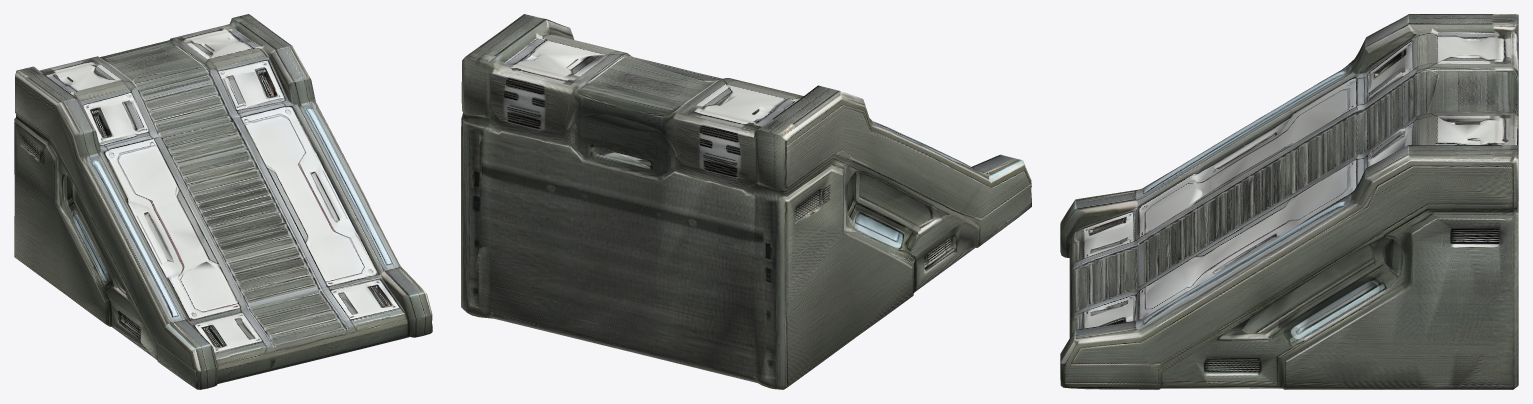
Rendered from ramp.glb.
3 renders of one model, left to right at view 1: azimuth 30°, elevation 25°; view 2: azimuth 150°, elevation 25°; view 3: azimuth 270°, elevation 25°, orthographic. The views are drawn at different scales.
Visible parts, largest first — view 1: Mesh_0.001; view 2: Mesh_0.001; view 3: Mesh_0.001.
Part boxes in pixels (x1,y1,x2,y2): Mesh_0.001: (14, 14, 432, 389); Mesh_0.001: (461, 14, 1031, 389); Mesh_0.001: (1060, 14, 1518, 389).
Size of the model in its own units: 3.19 by 2.4 by 4.23.
Materials: 1 (1 with a texture image).
